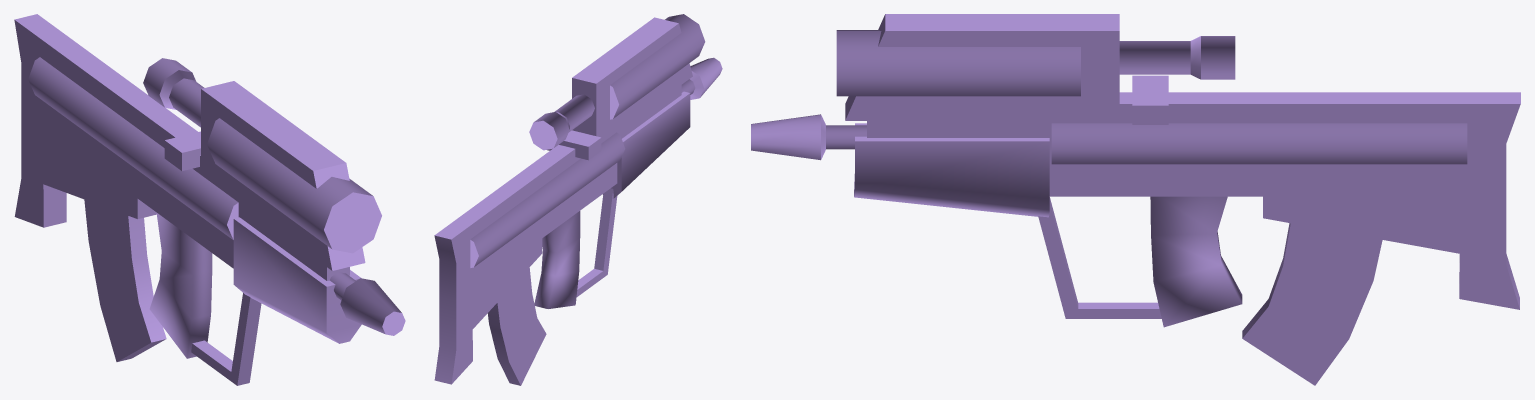
File: carbine_lo.FBX
3 renders of one model, left to right at view 1: azimuth 30°, elevation 25°; view 2: azimuth 150°, elevation 25°; view 3: azimuth 270°, elevation 25°, orthographic. The views are drawn at different scales.
Visible parts, largest first — view 1: Box001; view 2: Box001; view 3: Box001.
Part boxes in pixels (x1,y1,x2,y2): Box001: (14,14,405,385); Box001: (434,14,722,385); Box001: (751,14,1520,385).
Bounding box in the file's own units: 1.02 × 5.69 × 11.03.
